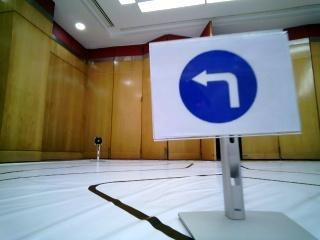left: (154, 46, 271, 126)
